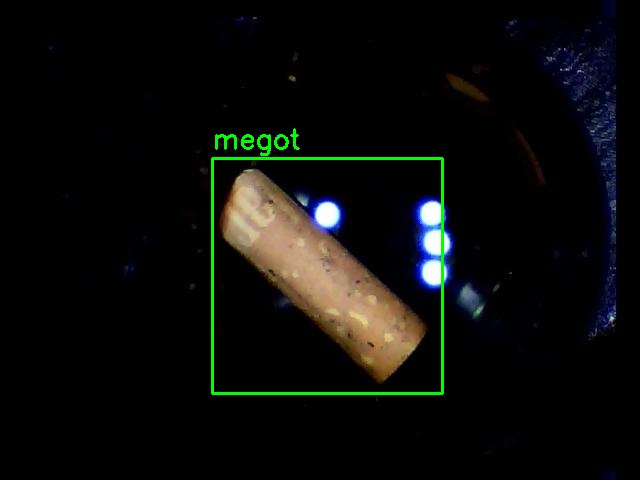megot: (212, 158, 442, 393)
